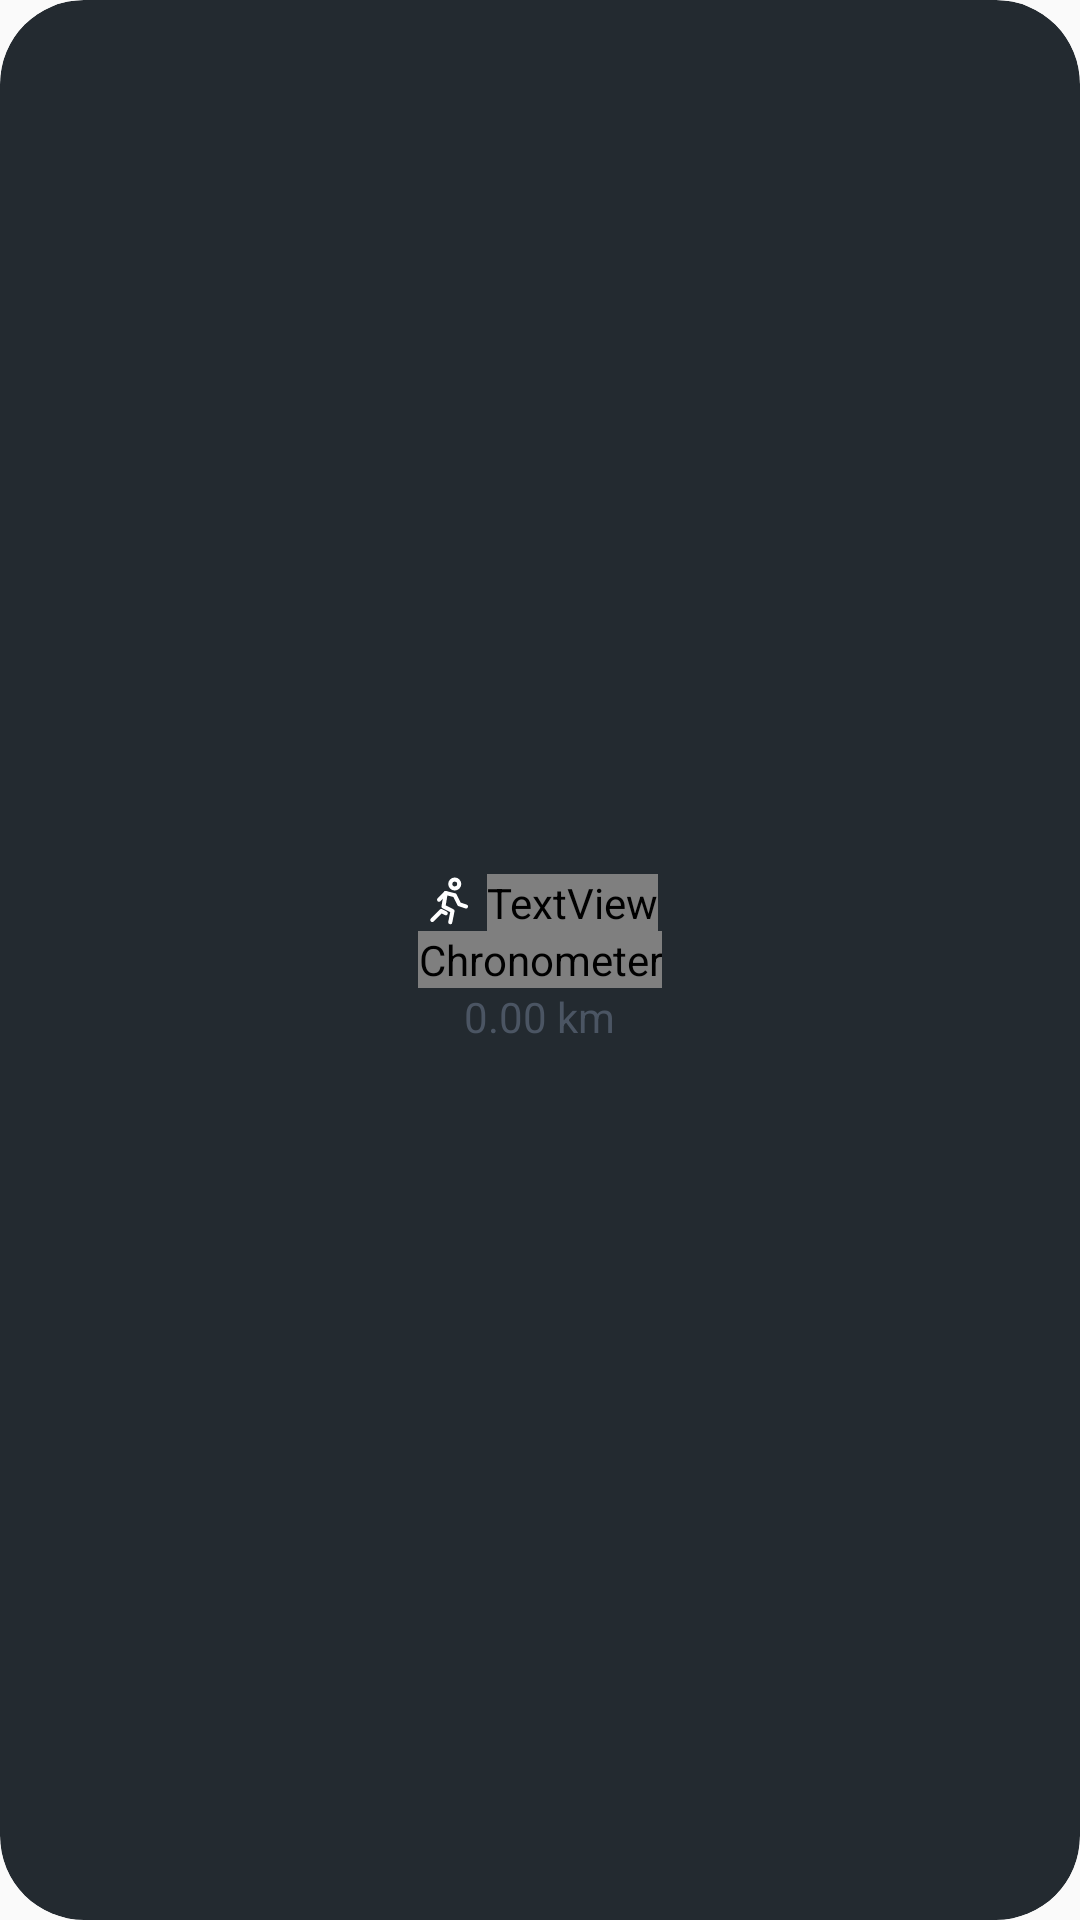

Point at icon controls on the screen. Image size 1080w x 1920h, points as (x=x, y=y).
activity run: (x=449, y=901)
